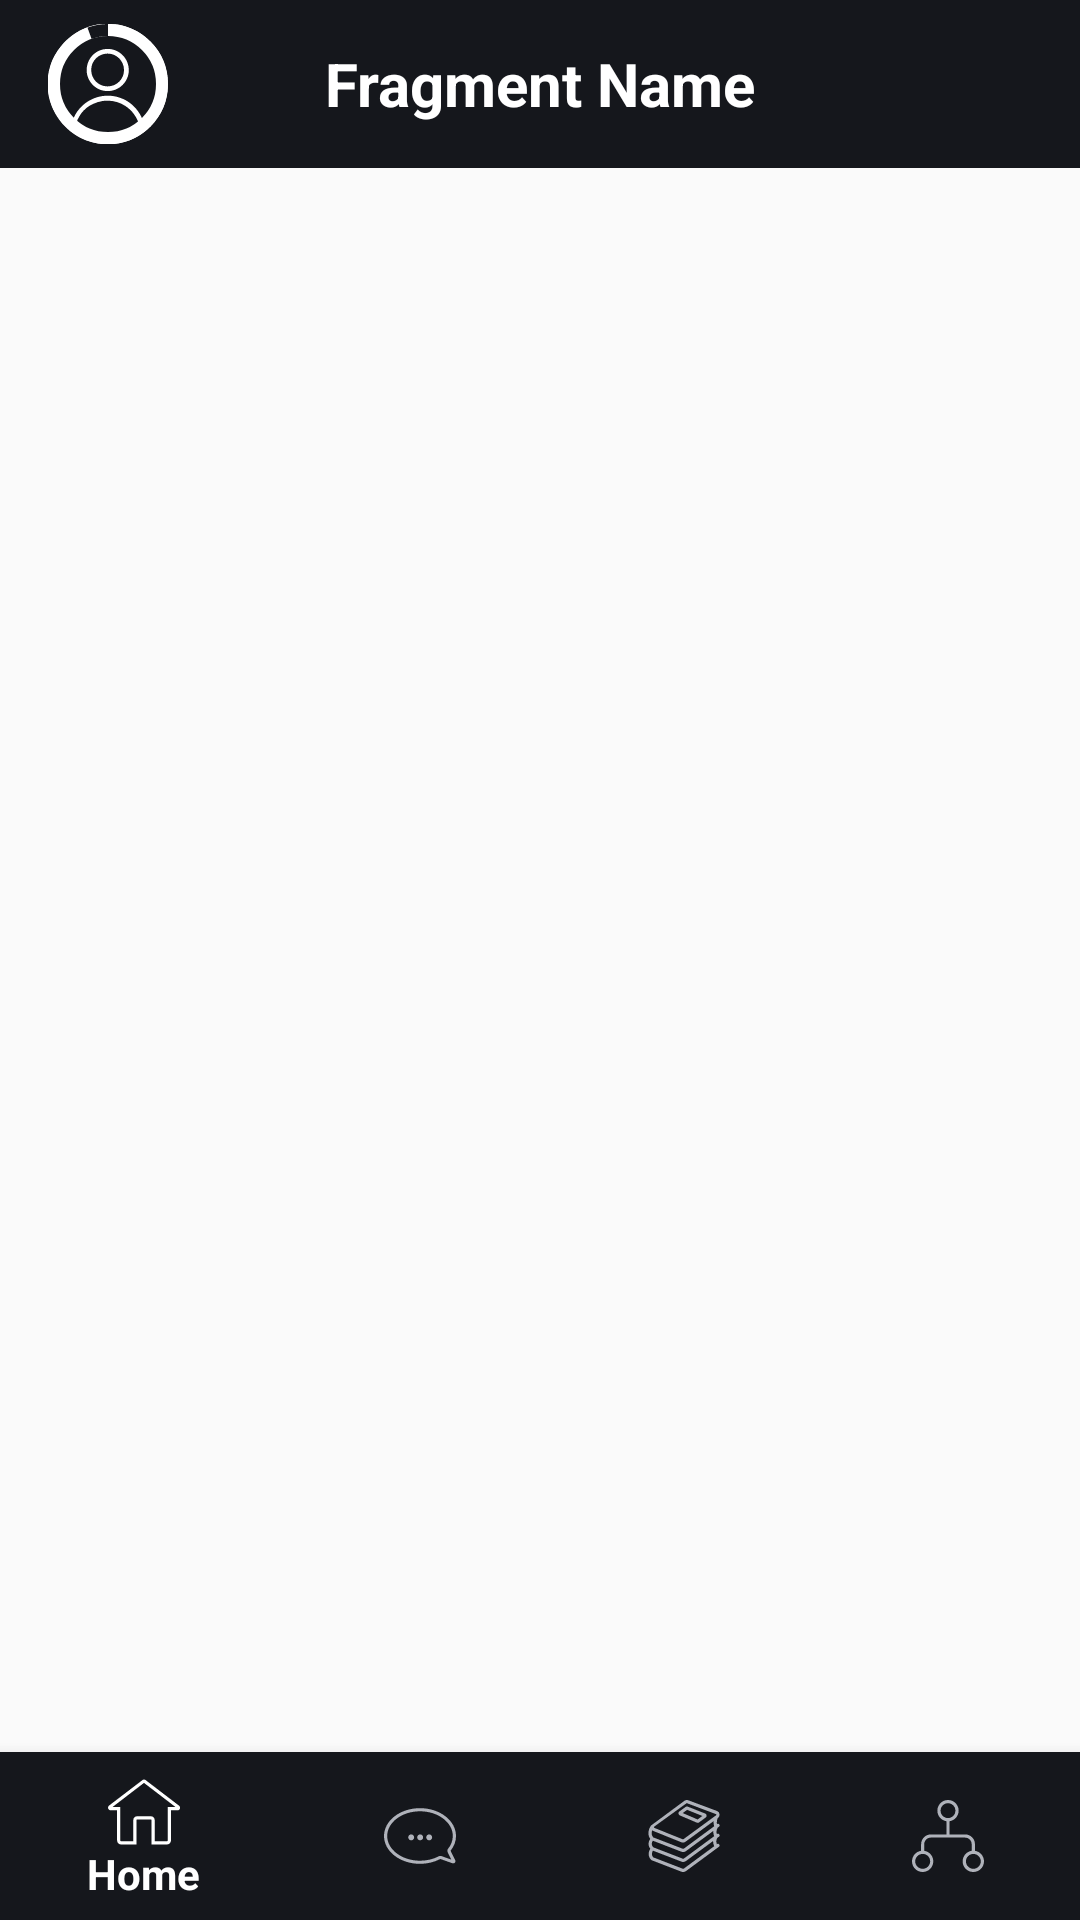

Point at icon controls on the screen. Image size 1080px x 1920px, points as point (x, y).
profile: point (108, 84)
